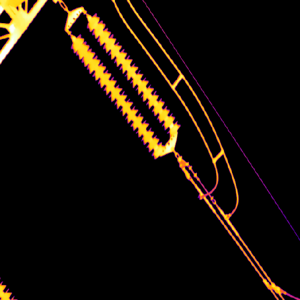insulator: (68, 13, 177, 156)
